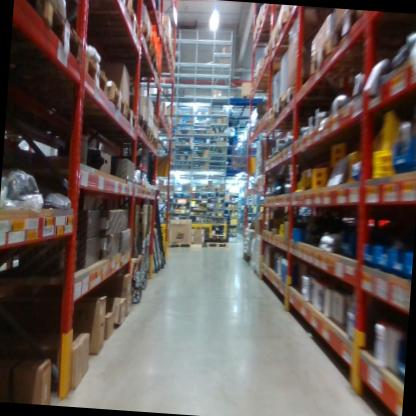pallet: (29, 74, 127, 121), (310, 41, 389, 90), (42, 0, 89, 72), (43, 48, 112, 97), (64, 1, 141, 42), (284, 81, 359, 121), (270, 29, 330, 68), (278, 6, 344, 38), (109, 45, 163, 83), (100, 22, 153, 60), (262, 46, 307, 76), (13, 0, 47, 29), (63, 0, 135, 13), (271, 86, 288, 118), (122, 97, 138, 127), (132, 113, 151, 137), (275, 101, 290, 131), (167, 239, 190, 254), (143, 122, 155, 148), (205, 240, 229, 250), (153, 138, 160, 153)
pallet_truck: (120, 196, 150, 306), (127, 202, 150, 313), (133, 197, 157, 296)
